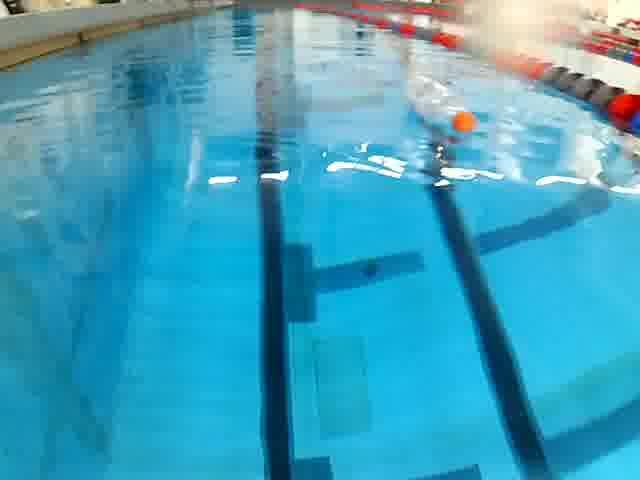Bottle: (402, 71, 484, 138)
